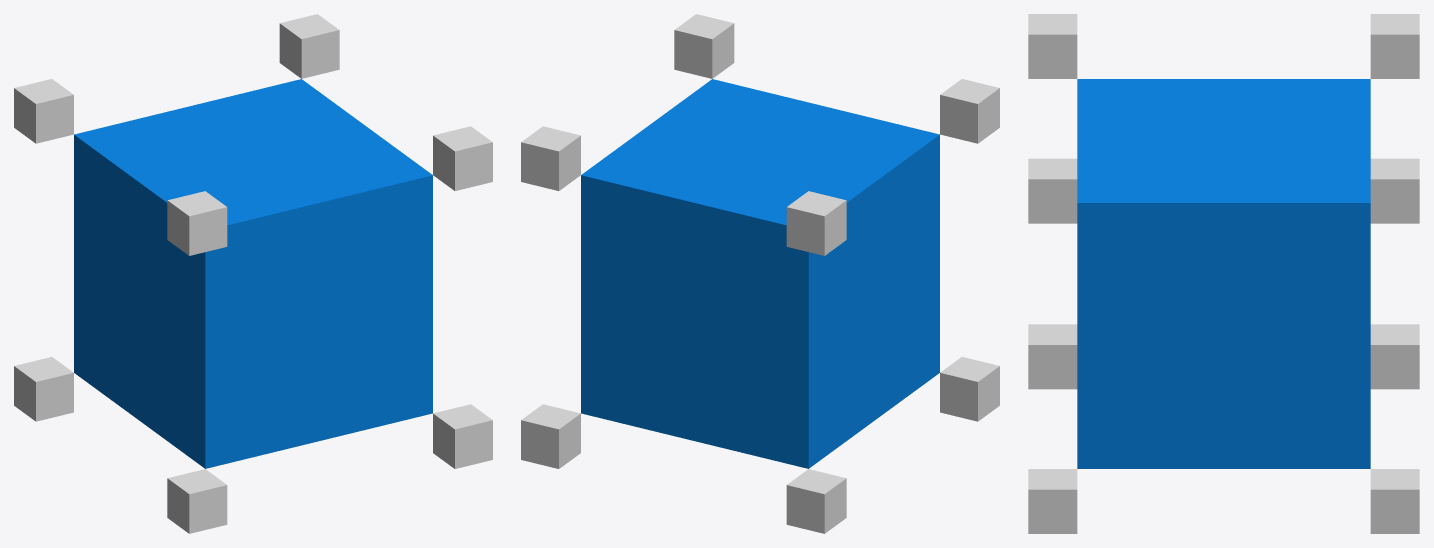
Rendered from cube-resize.glb.
3 views of the same model, side by side, from view 1: azimuth 30°, elevation 25°; view 2: azimuth 150°, elevation 25°; view 3: azimuth 270°, elevation 25° (orthographic). The views are drawn at different scales.
Visible parts, largest first — view 1: cube-resize; view 2: cube-resize; view 3: cube-resize.
Part boxes in pixels (box(x1,y1,x2,y2)): cube-resize: box(14, 14, 492, 533); cube-resize: box(521, 14, 999, 533); cube-resize: box(1028, 14, 1419, 533).
Bounding box in the file's own units: 1 × 1 × 1.
